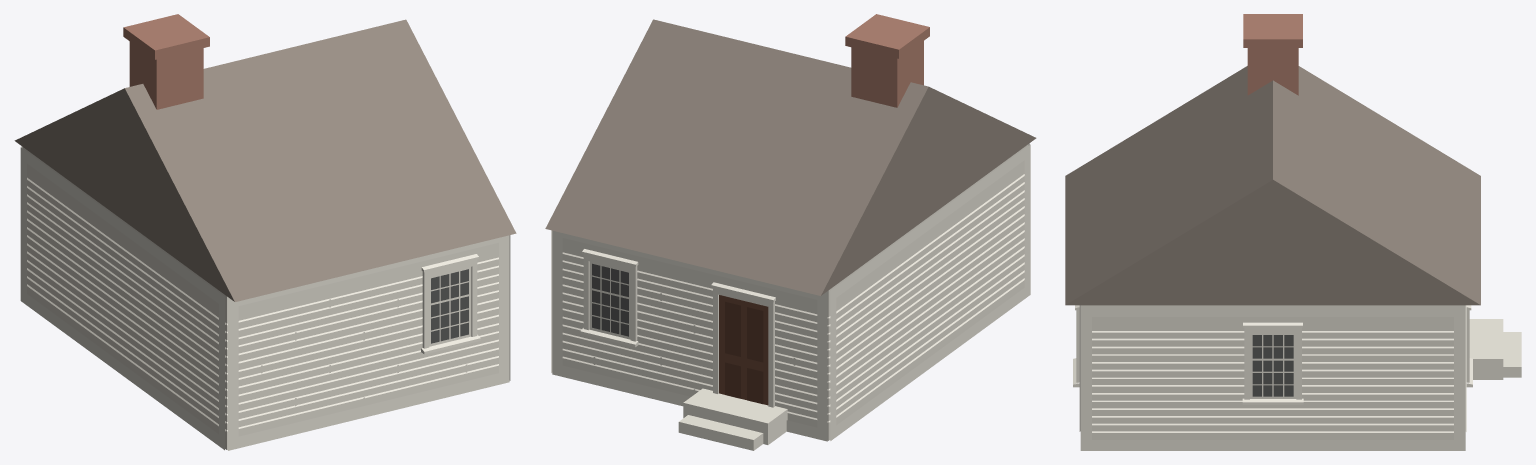
The model's file is recon_1835_blk_indiana_north_wolcott_d3_05__inferred_1835.glb.
The picture shows the model from 3 angles, left to right: view 1: azimuth 30°, elevation 25°; view 2: azimuth 150°, elevation 25°; view 3: azimuth 270°, elevation 25°; orthographic projection. The views are drawn at different scales.
Parts seen in each view (by area): view 1: recon_1835_blk_indiana_north_wolcott_d3_05__inferred_1835; view 2: recon_1835_blk_indiana_north_wolcott_d3_05__inferred_1835; view 3: recon_1835_blk_indiana_north_wolcott_d3_05__inferred_1835.
Boxes of the visible parts, x1=… form: recon_1835_blk_indiana_north_wolcott_d3_05__inferred_1835: x1=14, y1=14, x2=516, y2=450; recon_1835_blk_indiana_north_wolcott_d3_05__inferred_1835: x1=545, y1=14, x2=1036, y2=450; recon_1835_blk_indiana_north_wolcott_d3_05__inferred_1835: x1=1065, y1=14, x2=1521, y2=450.
Size of the model in its own units: 5.19 by 5.69 by 7.5.
